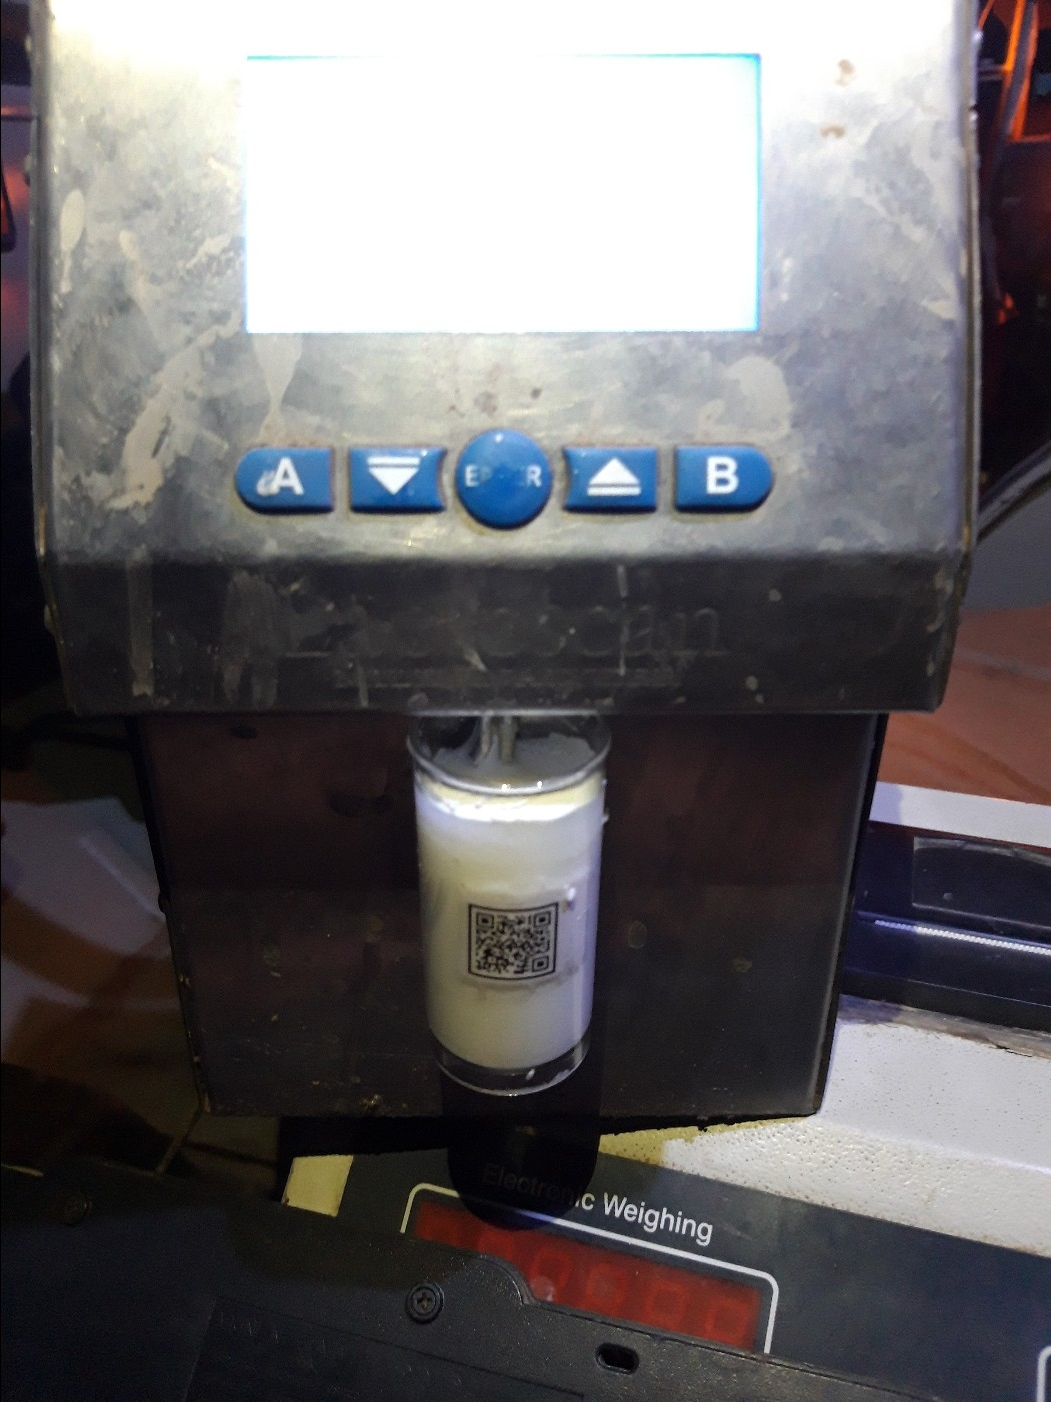lcd: (222, 39, 777, 347)
qr: (437, 890, 588, 996)
